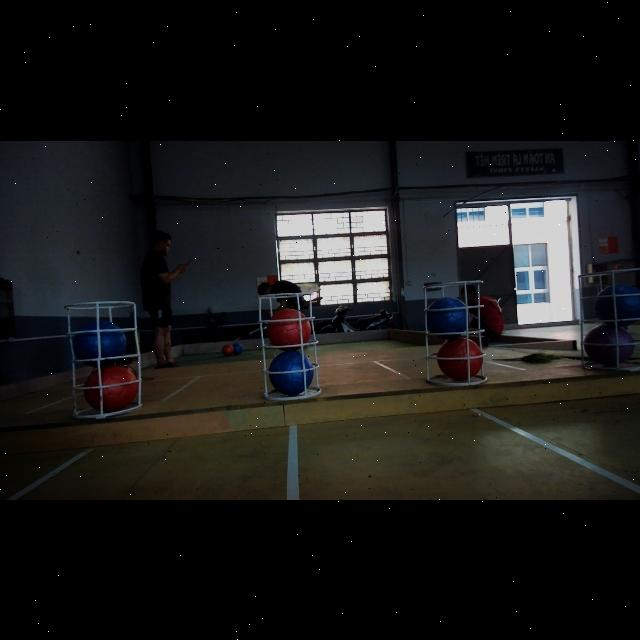B: (272, 219, 434, 239), (72, 320, 126, 364), (268, 350, 314, 398), (594, 280, 640, 324), (422, 295, 472, 335)
R: (83, 363, 137, 411), (437, 336, 485, 379), (266, 308, 312, 350)
